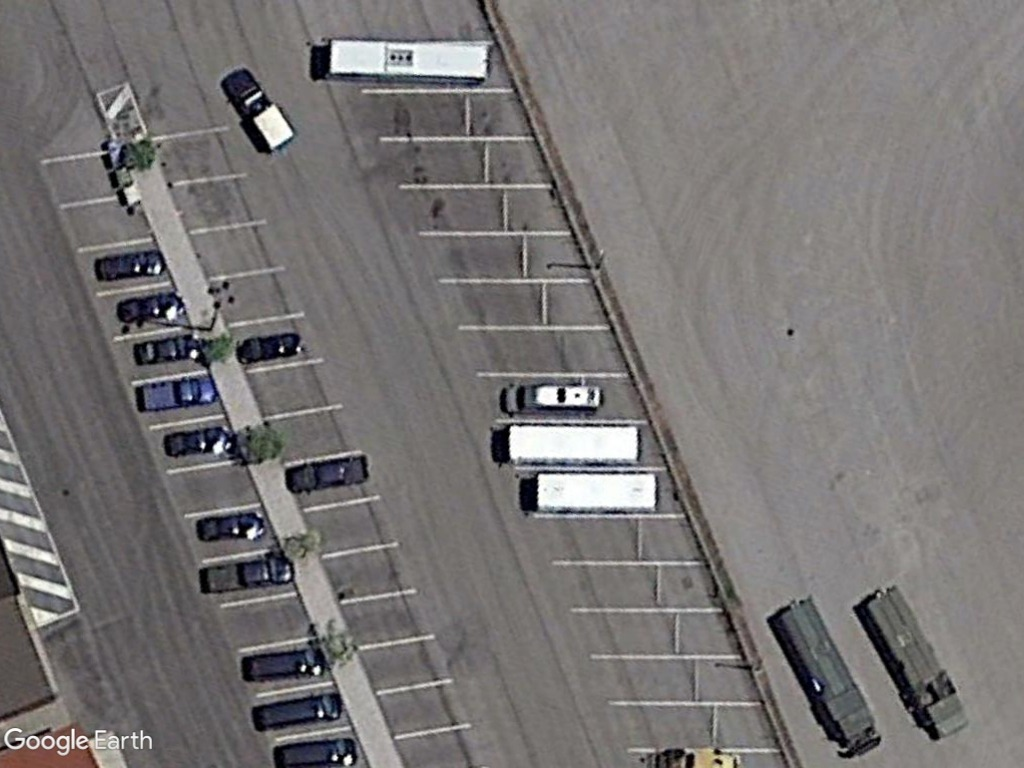bus: (316, 32, 496, 88)
longvehicle: (527, 469, 663, 518), (501, 421, 645, 467)
other: (217, 66, 298, 156), (499, 378, 608, 421), (199, 555, 298, 598), (284, 449, 373, 496), (250, 691, 348, 730), (134, 374, 220, 417), (240, 650, 329, 684), (272, 734, 359, 768), (194, 511, 266, 543), (94, 252, 168, 283)
truck: (856, 576, 980, 747), (769, 593, 885, 761)
